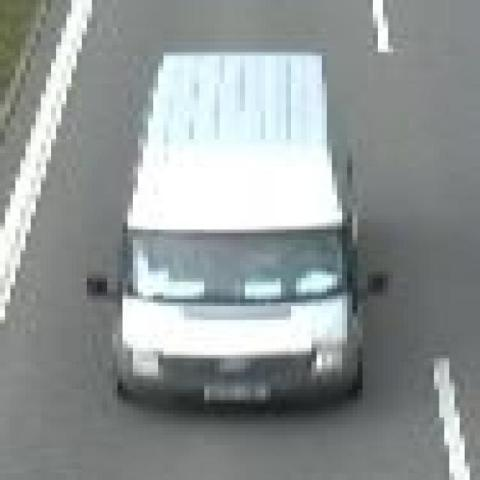van: (115, 50, 345, 412)
